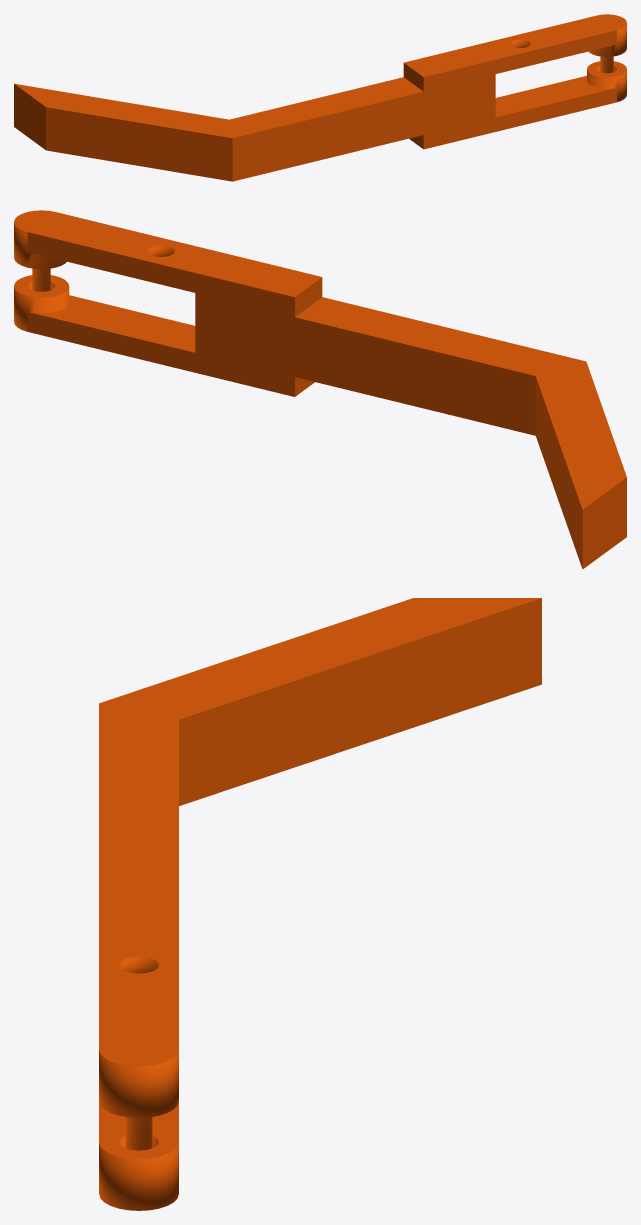
The model's file is tarot_t650_gripper_mecha_right.dae.
3 views of the same model, one above another, from view 1: azimuth 30°, elevation 25°; view 2: azimuth 150°, elevation 25°; view 3: azimuth 270°, elevation 25° (orthographic). The views are drawn at different scales.
Visible parts, largest first — view 1: Gripper_Second_claw_right v5.001; view 2: Gripper_Second_claw_right v5.001; view 3: Gripper_Second_claw_right v5.001.
Part boxes in pixels (left/top/right/bottom): Gripper_Second_claw_right v5.001: left=14, top=14, right=626, bottom=181; Gripper_Second_claw_right v5.001: left=14, top=210, right=626, bottom=569; Gripper_Second_claw_right v5.001: left=99, top=598, right=541, bottom=1210.
Bounding box in the file's own units: 177 × 66.5 × 23.95.
